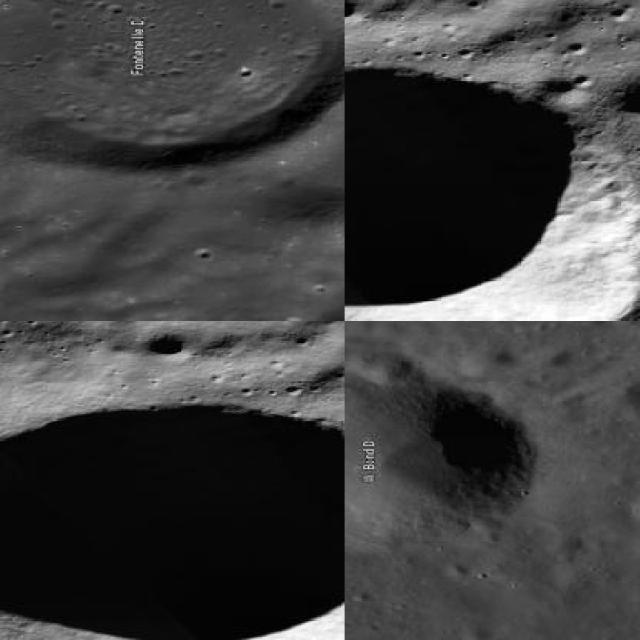crater: (0, 397, 343, 638), (344, 60, 638, 318), (0, 0, 343, 175), (344, 368, 538, 548)
